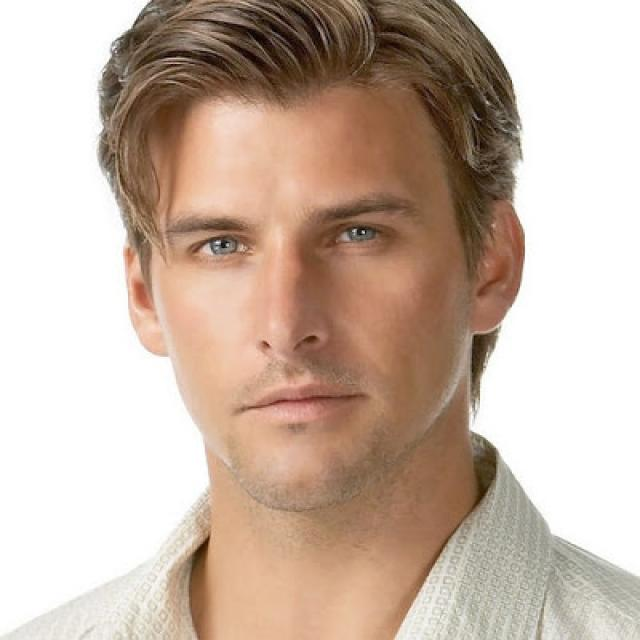earlobe: (137, 317, 168, 357), (473, 292, 501, 336)
eye: (330, 224, 386, 246), (191, 234, 251, 254)
nose: (256, 339, 328, 379)
wholeear: (474, 202, 525, 336), (123, 233, 170, 356)
